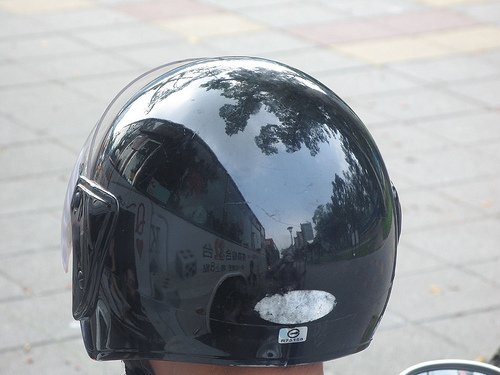helmet: (53, 64, 376, 360)
